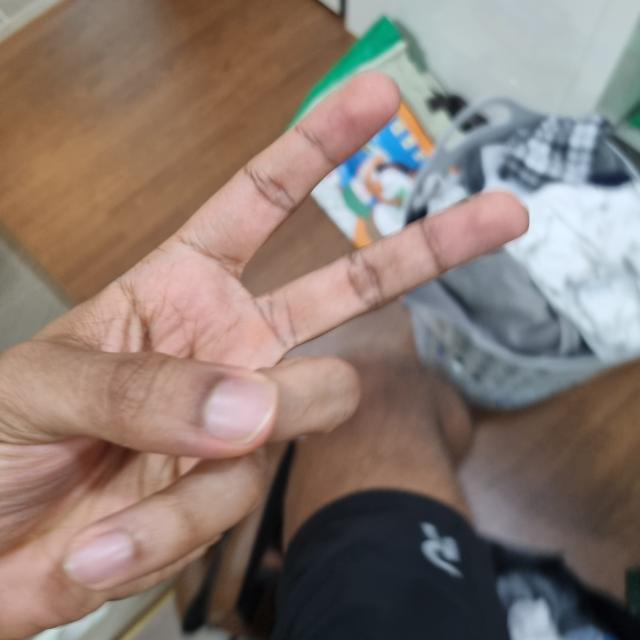Scissors: (0, 72, 529, 640)
